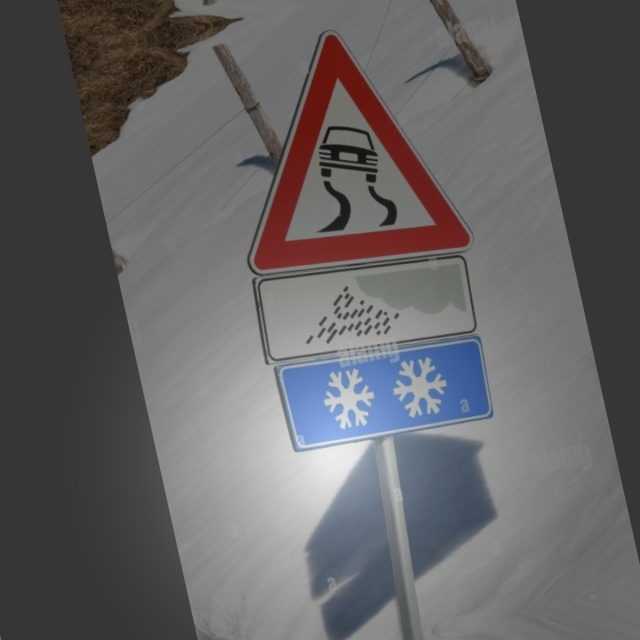Slippery_Road: (211, 11, 474, 288)
